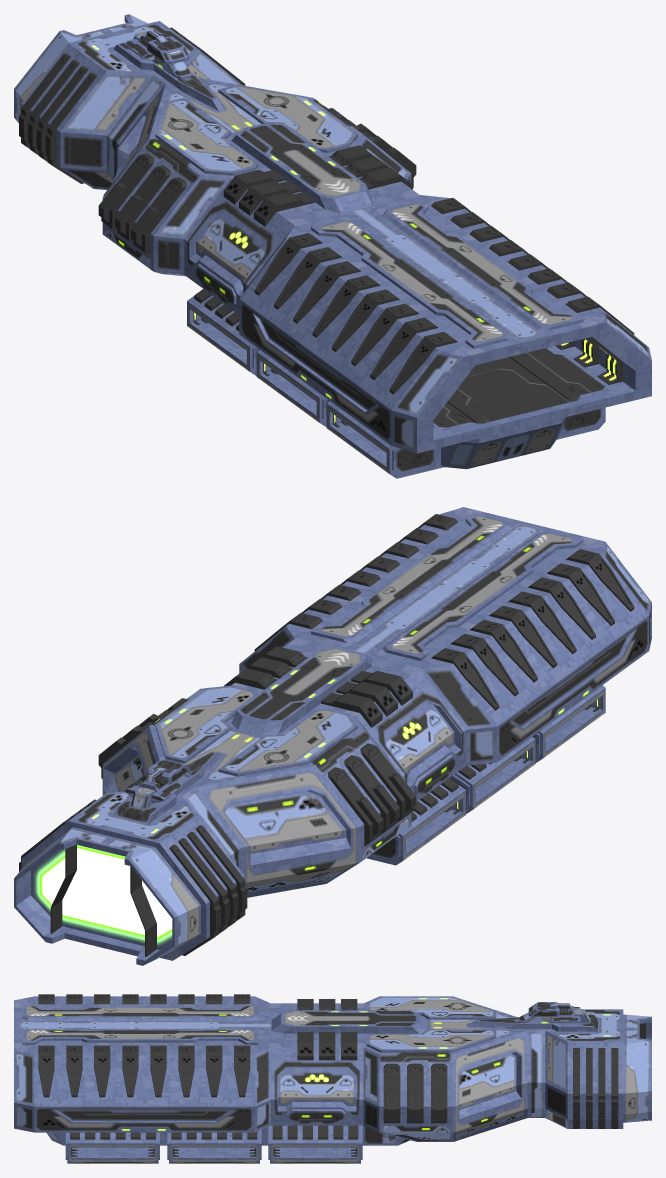
Rendered from flagship-forebear.glb.
3 renders of one model, top to bottom at view 1: azimuth 30°, elevation 25°; view 2: azimuth 150°, elevation 25°; view 3: azimuth 270°, elevation 25°, orthographic. The views are drawn at different scales.
Parts seen in each view (by area): view 1: hull; view 2: hull; view 3: hull.
Part boxes in pixels (<box>): hull: <box>14,14,651,478</box>; hull: <box>14,507,651,965</box>; hull: <box>14,994,651,1163</box>.
Size of the model in its own units: 0.3671 by 0.2142 by 1.
Materials: 1 (1 with a texture image).
